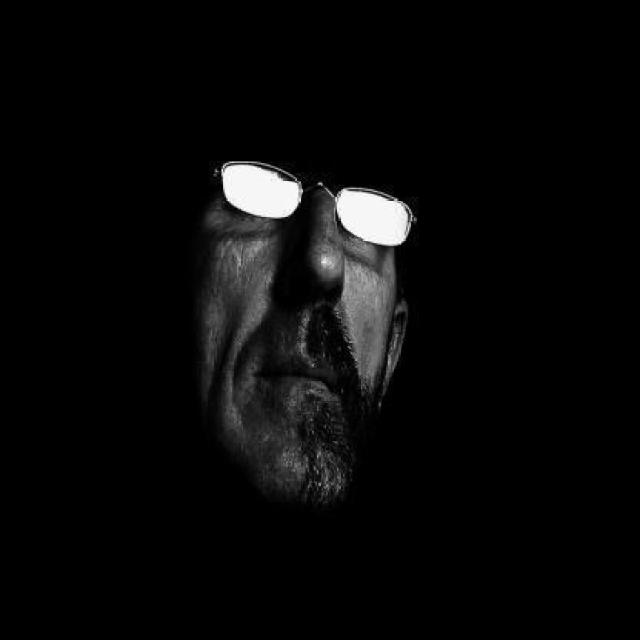face_nomask: (208, 142, 409, 416)
glasses: (212, 155, 417, 256)
